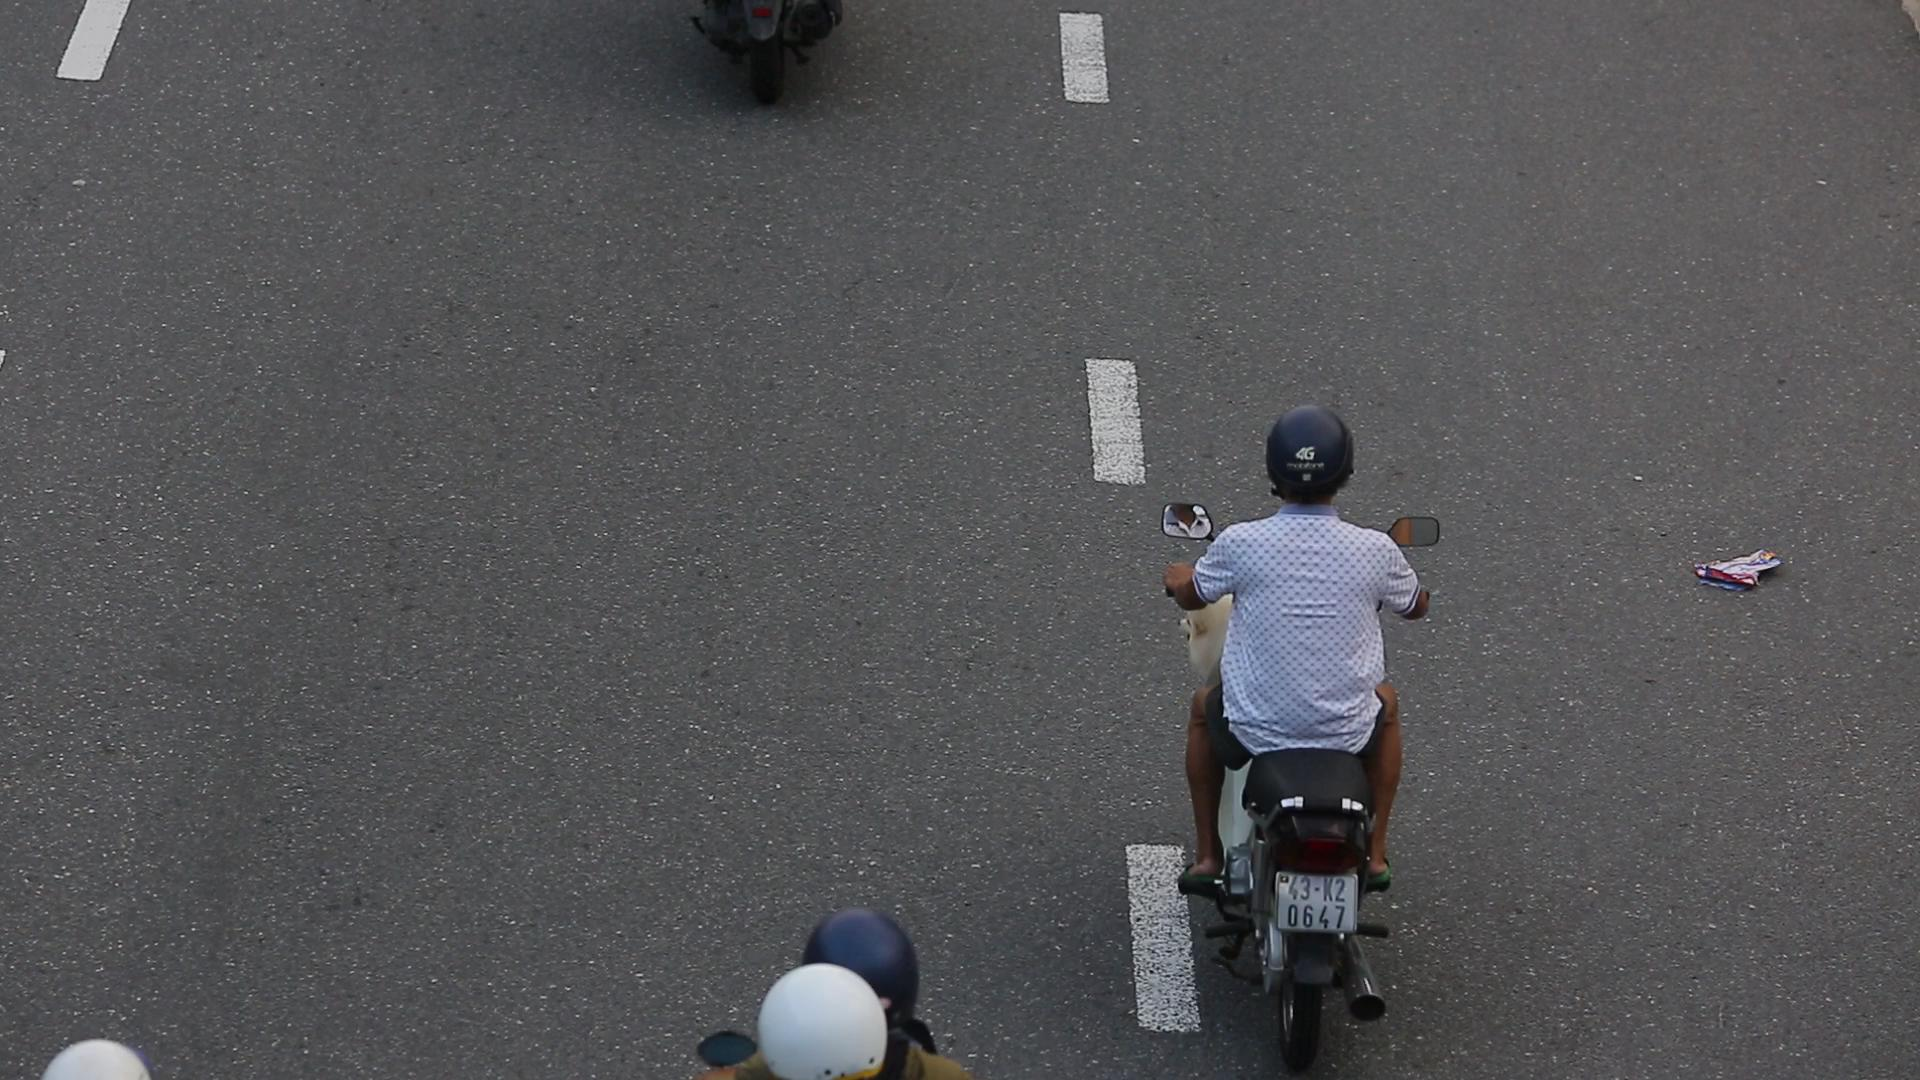motobike: (1127, 375, 1428, 1080)
